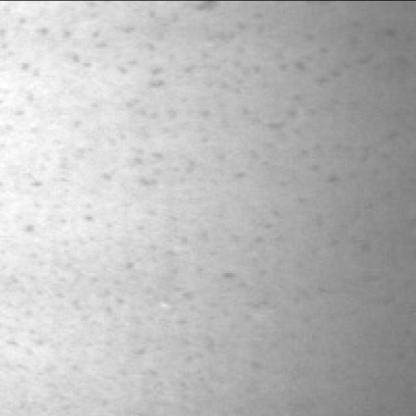pitted_surface: (0, 12, 391, 187), (4, 220, 289, 383)
